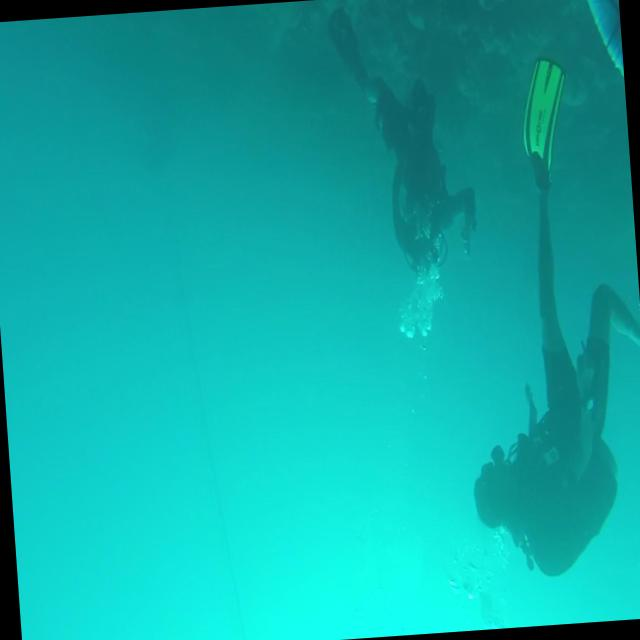human: (442, 53, 640, 584), (325, 0, 480, 289)
